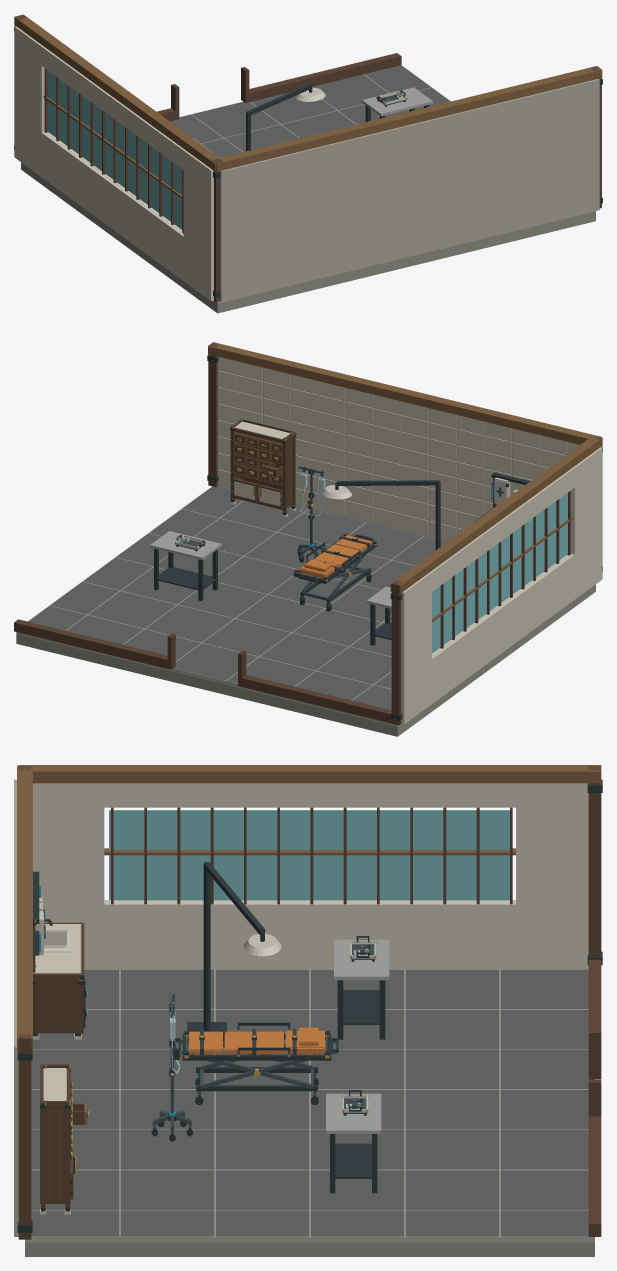
The model's file is visual-far.glb.
The picture shows the model from 3 angles, top to bottom: view 1: azimuth 30°, elevation 25°; view 2: azimuth 150°, elevation 25°; view 3: azimuth 270°, elevation 25°; orthographic projection. The views are drawn at different scales.
Visible parts, largest first — view 1: 真实窗洞、木梁与切角房间墙, 分层实心台基与独立石铺面, 实际承托工作面与四足, 独立立架连续医护照明头; view 2: 真实窗洞、木梁与切角房间墙, 分层实心台基与独立石铺面, 药柜药屉, 实际承托工作面与四足 (×2), 救护担架, 独立立架连续医护照明头, 输液支架 · 公共空间用途修正, 医务洗手消毒台 · 公共空间用途修正; view 3: 分层实心台基与独立石铺面, 真实窗洞、木梁与切角房间墙, 救护担架, 实际承托工作面与四足 (×2), 医务洗手消毒台 · 公共空间用途修正, 药柜药屉, 独立立架连续医护照明头, 输液支架 · 公共空间用途修正.
Part boxes in pixels (x1,y1,x2,y2): 真实窗洞、木梁与切角房间墙: (14, 14, 602, 302); 分层实心台基与独立石铺面: (21, 65, 595, 313); 实际承托工作面与四足: (362, 87, 432, 121); 独立立架连续医护照明头: (246, 84, 325, 151); 真实窗洞、木梁与切角房间墙: (14, 342, 602, 725); 分层实心台基与独立石铺面: (16, 485, 595, 736); 药柜药屉: (230, 419, 296, 517); 实际承托工作面与四足 (×2): (150, 531, 391, 645); 救护担架: (293, 533, 377, 611); 独立立架连续医护照明头: (321, 480, 440, 550); 输液支架 · 公共空间用途修正: (297, 466, 325, 562); 医务洗手消毒台 · 公共空间用途修正: (473, 472, 530, 522); 分层实心台基与独立石铺面: (25, 969, 594, 1256); 真实窗洞、木梁与切角房间墙: (14, 765, 602, 1239); 救护担架: (174, 1022, 338, 1104); 实际承托工作面与四足 (×2): (326, 939, 389, 1193); 医务洗手消毒台 · 公共空间用途修正: (33, 871, 87, 1039); 药柜药屉: (40, 1063, 89, 1214); 独立立架连续医护照明头: (187, 861, 281, 1042); 输液支架 · 公共空间用途修正: (151, 993, 192, 1141).
Size of the model in its own units: 8.24 by 3.08 by 7.44.
Materials: 30 (30 with a texture image).
